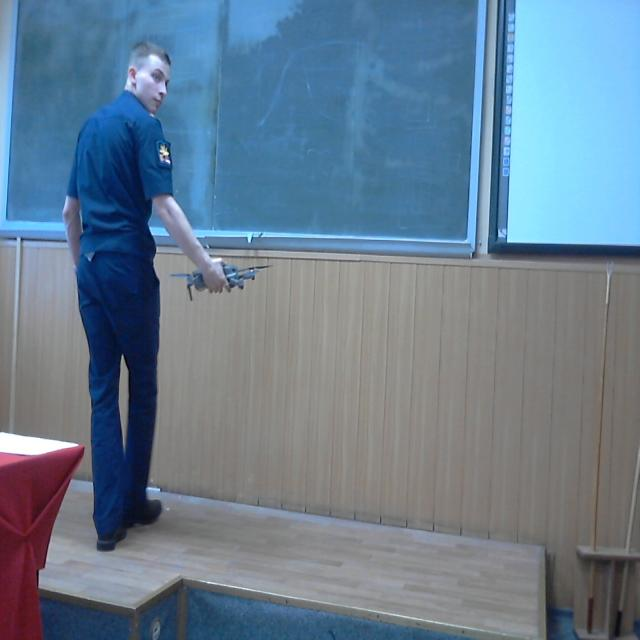drone: (168, 243, 280, 301)
